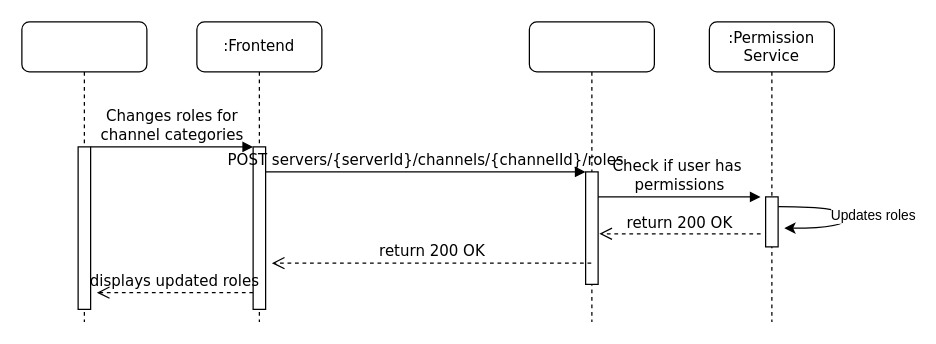
This 936x344 diagram has some shape labels left out. The centre of each missing label's shape, as x and y in pixels:
":API Gateway" belongs at pixel 591 171.
":User" belongs at pixel 84 171.
